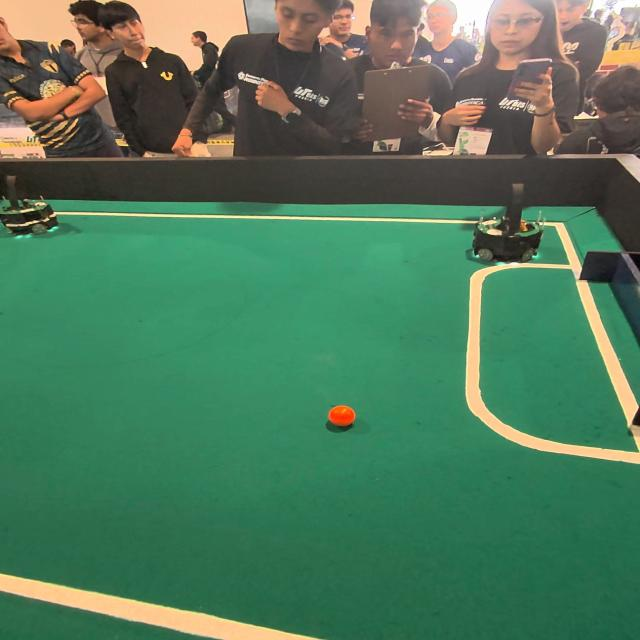Robot: (464, 182, 550, 266), (0, 173, 66, 251)
pelota: (326, 408, 358, 430)
